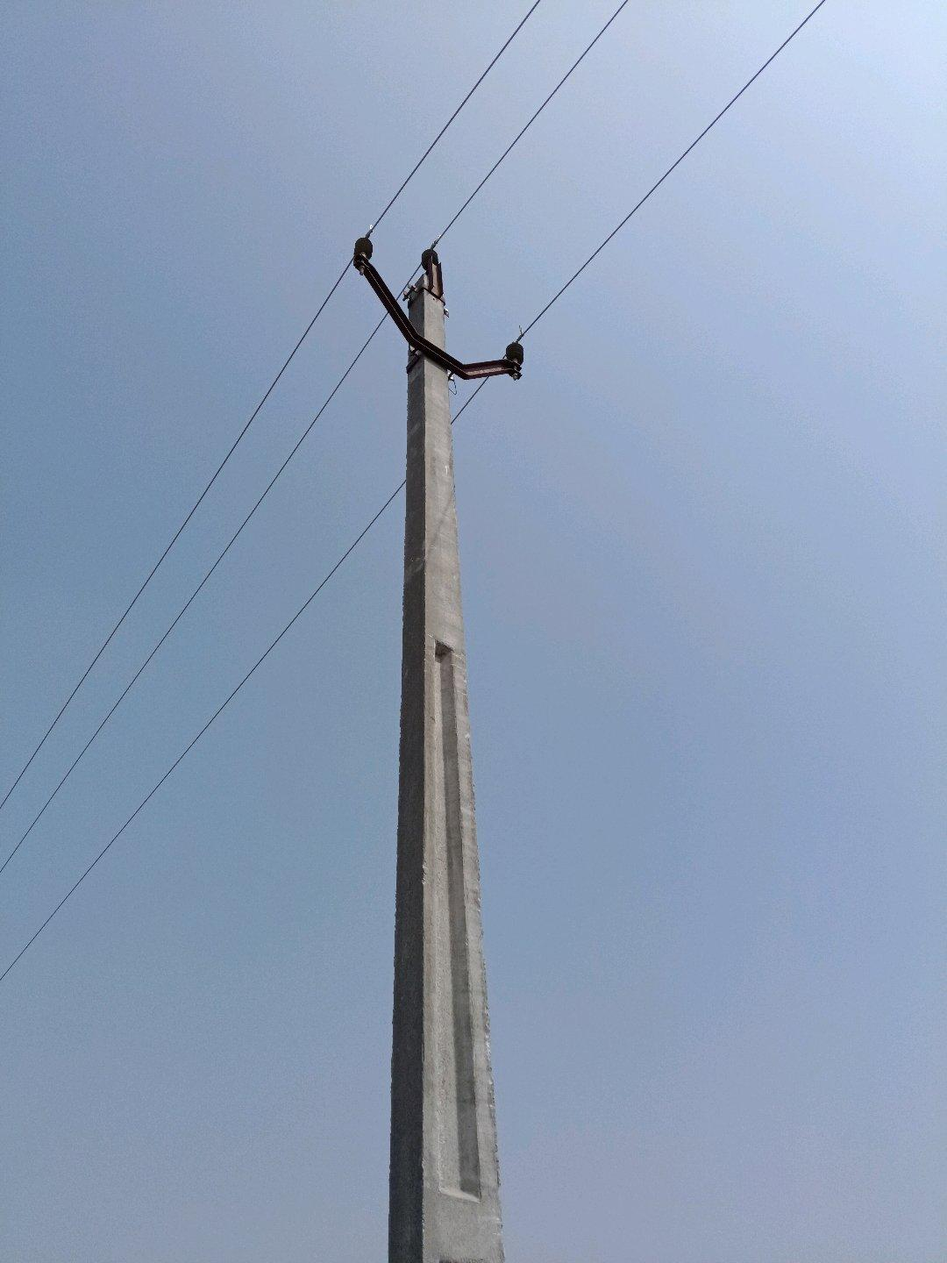{"0" "insulator", "1" "pole", "2" "crossarm", "3" "conductor", "4" "street_: (353, 239, 523, 1262), (531, 165, 673, 325)
